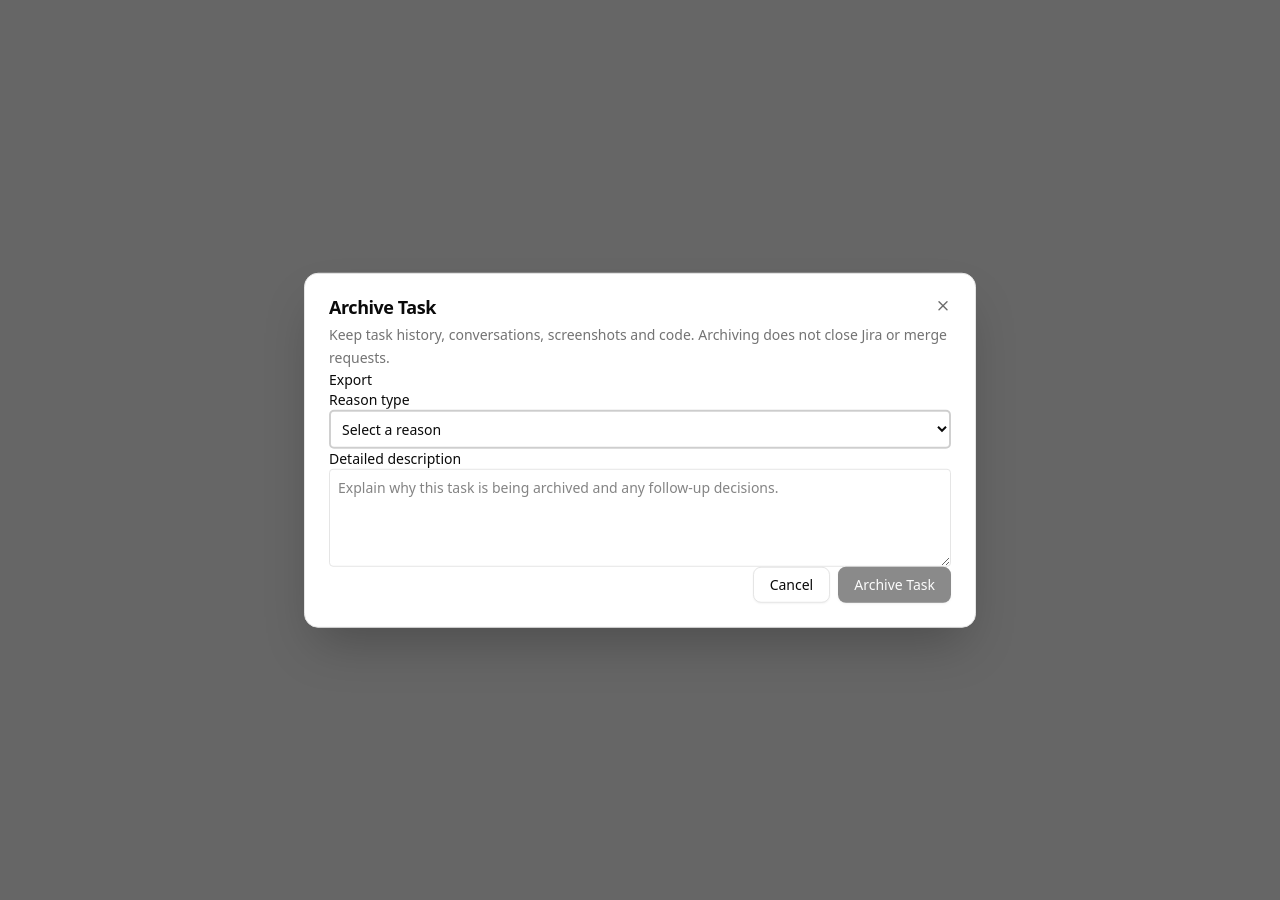
archive task form › does not require a duplicate target for deferred requirements
Select "Not proceeding for now" in the dropdown named "Archive reason": (640, 429) [329,409,951,448]
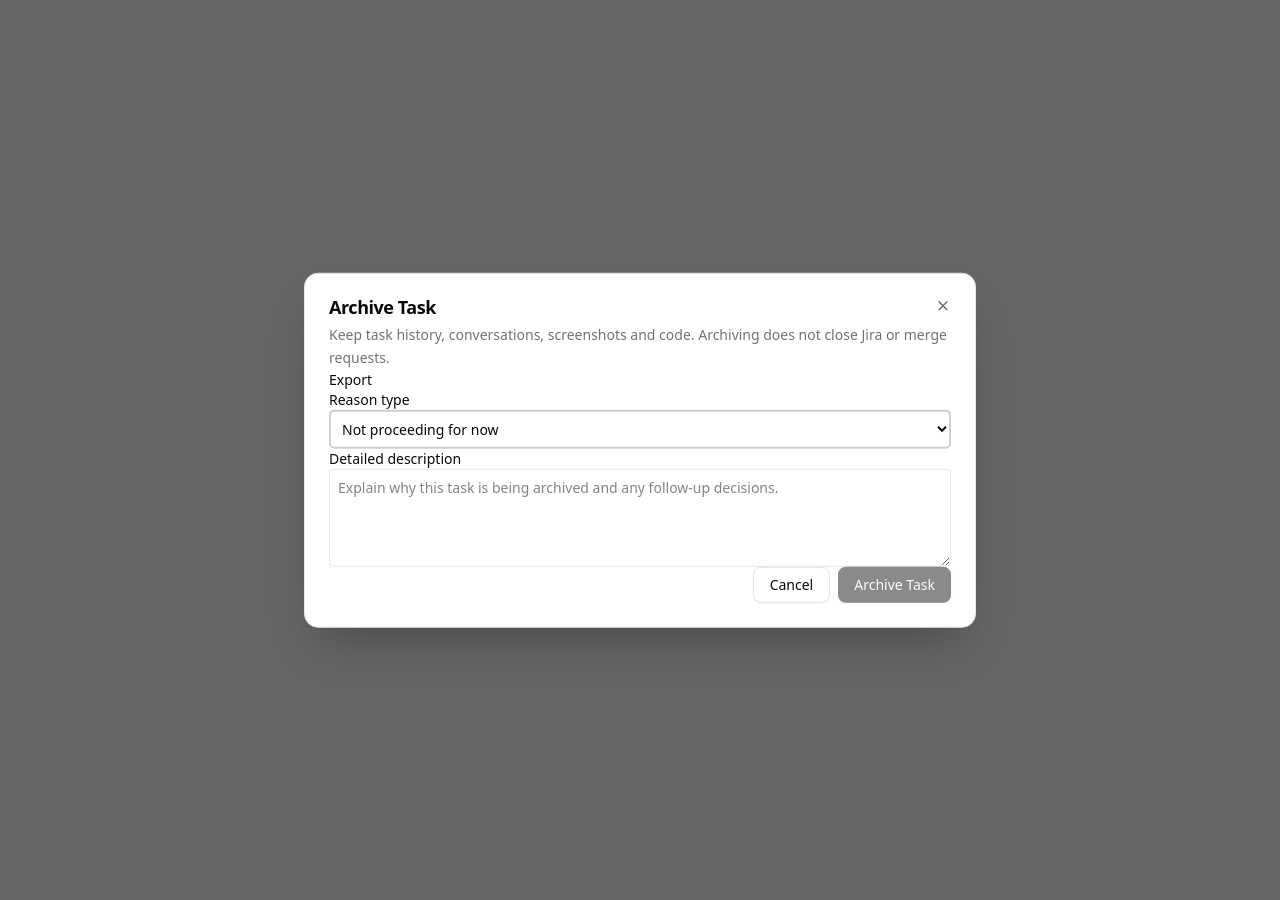
Replace the text in the text box named "Archive description" with "Budget not available this quarter": (640, 517) [329,468,951,566]
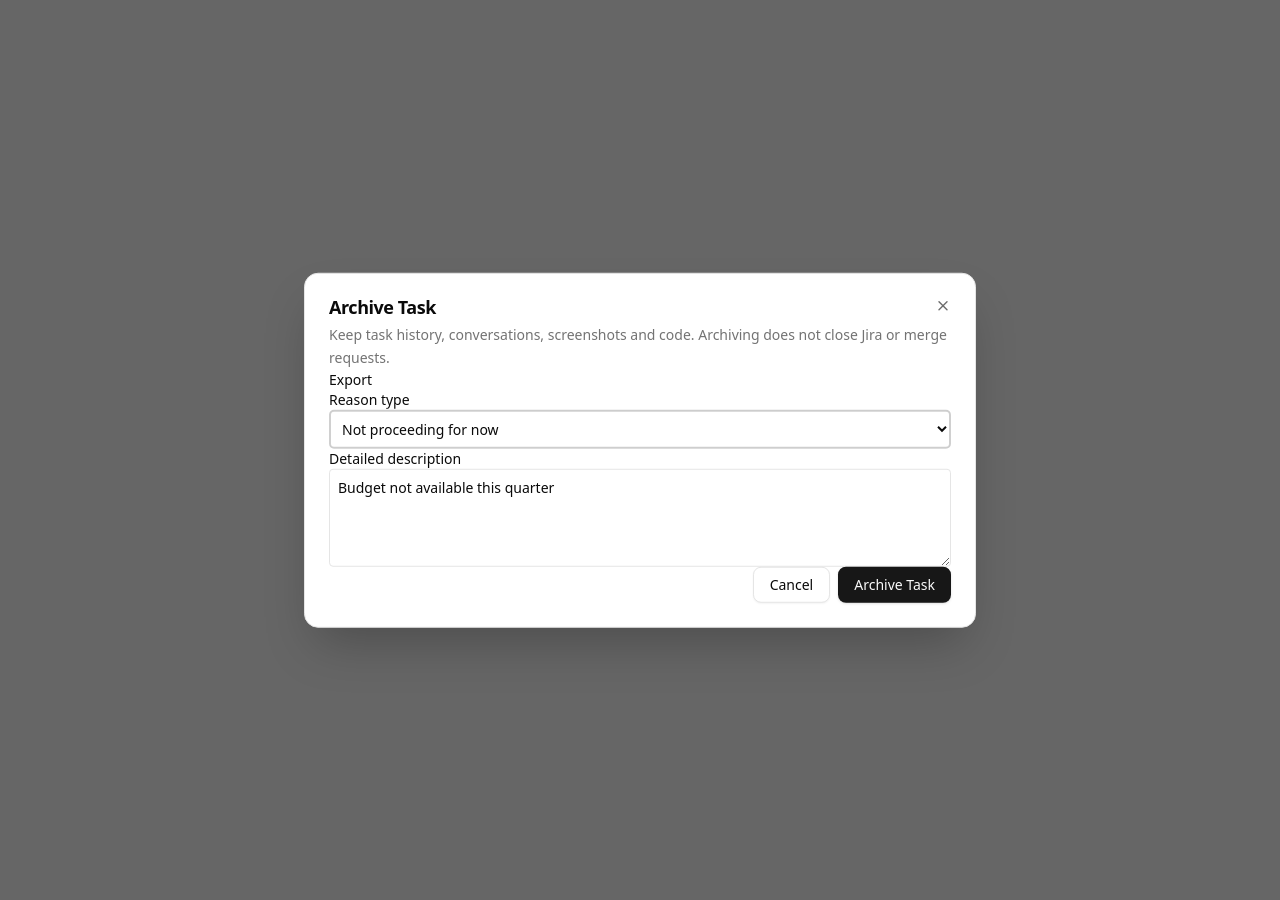
Check: the button "Archive Task" is enabled, box [838,566,951,602]
